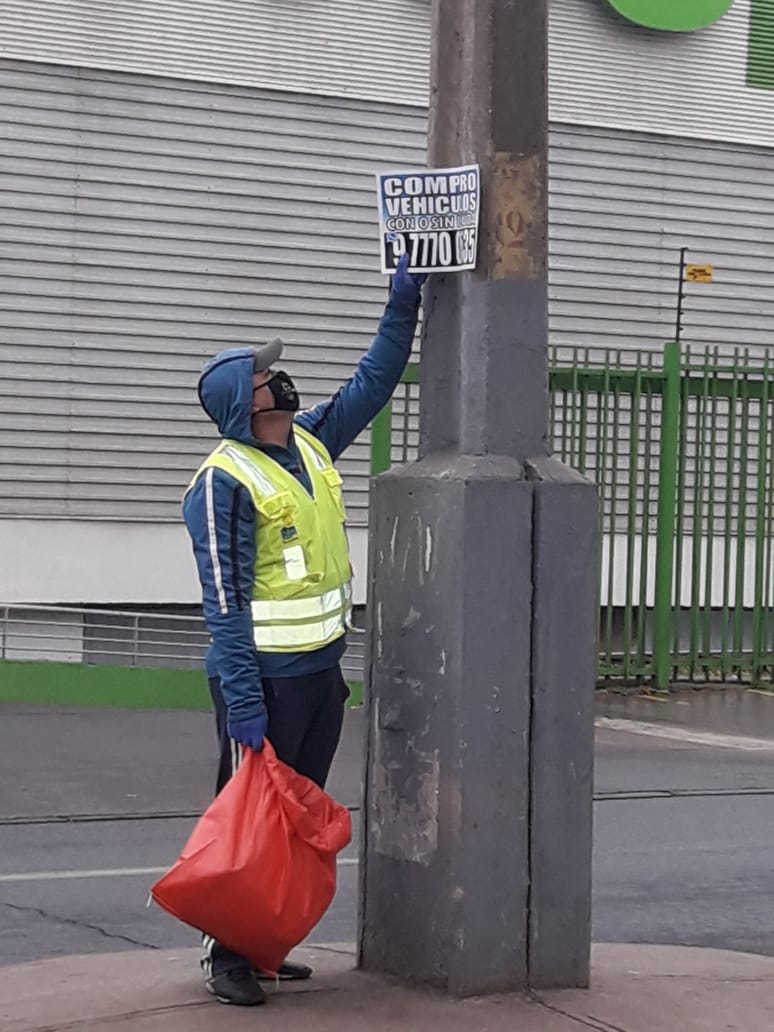Cartel: (366, 165, 488, 275)
Persona: (172, 328, 341, 1007)
Poste: (360, 1, 592, 987)
